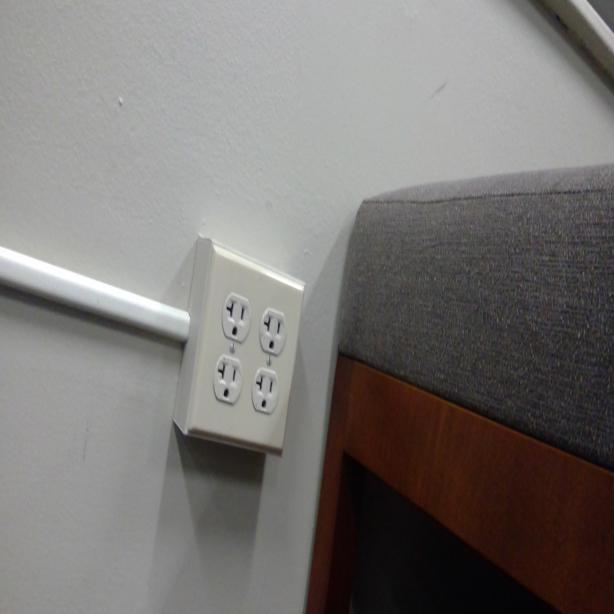typeb: (218, 293, 250, 346), (211, 355, 241, 404), (253, 372, 278, 418), (260, 306, 284, 353)
